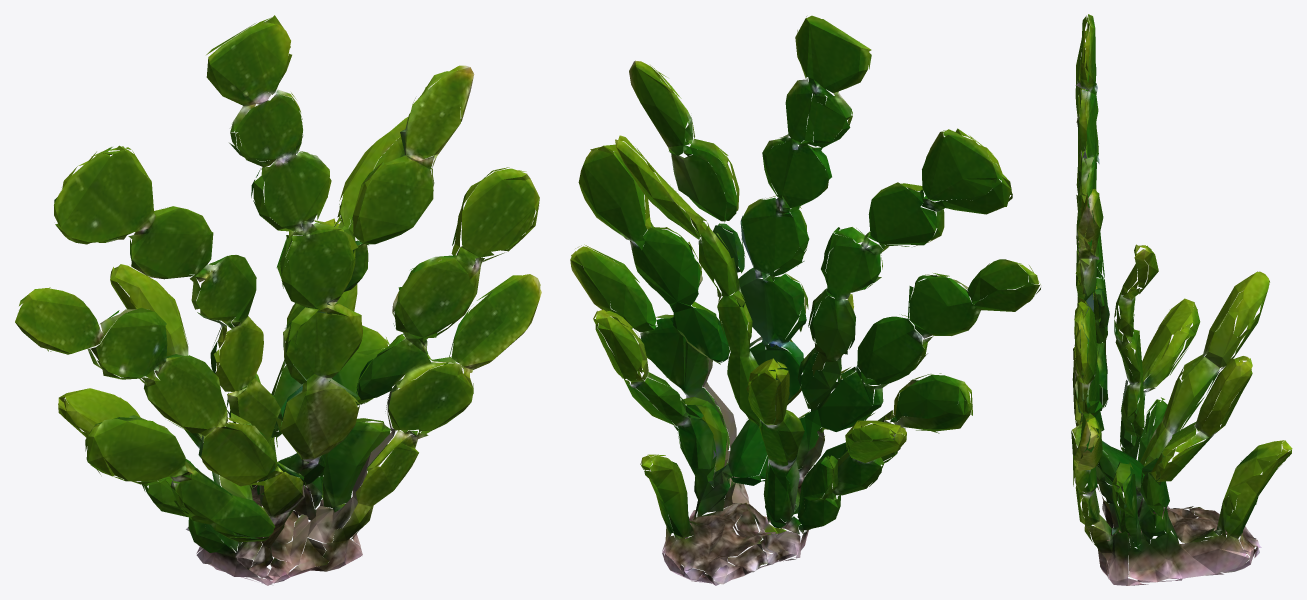
Rendered from halimeda.glb.
The picture shows the model from 3 angles, left to right: view 1: azimuth 30°, elevation 25°; view 2: azimuth 150°, elevation 25°; view 3: azimuth 270°, elevation 25°; orthographic projection. The views are drawn at different scales.
Parts seen in each view (by area): view 1: geometry_0; view 2: geometry_0; view 3: geometry_0.
Part boxes in pixels (<box>): geometry_0: <box>15,15,541,585</box>; geometry_0: <box>570,15,1040,585</box>; geometry_0: <box>1071,14,1292,585</box>.
Bounding box in the file's own units: 1.81 × 1.92 × 0.7345.
1 material, 1 textured.
